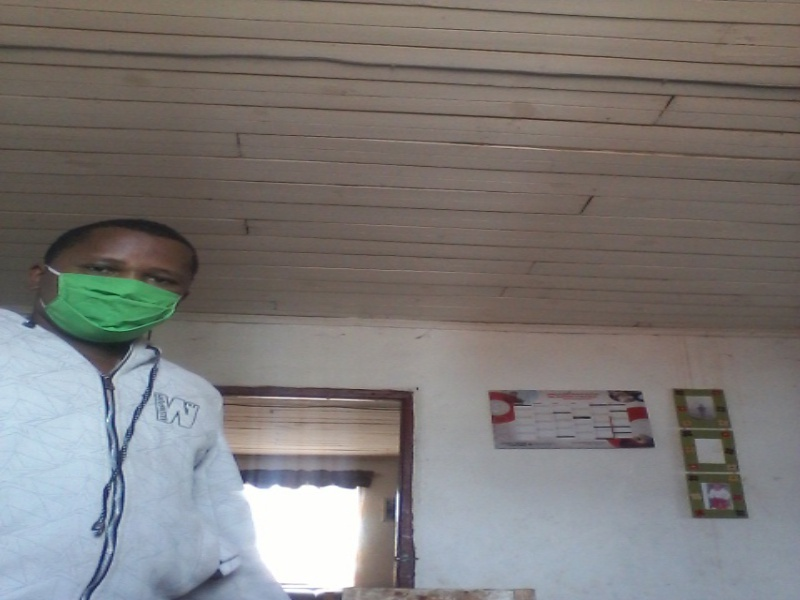ManaoArotava: (28, 203, 193, 367)
